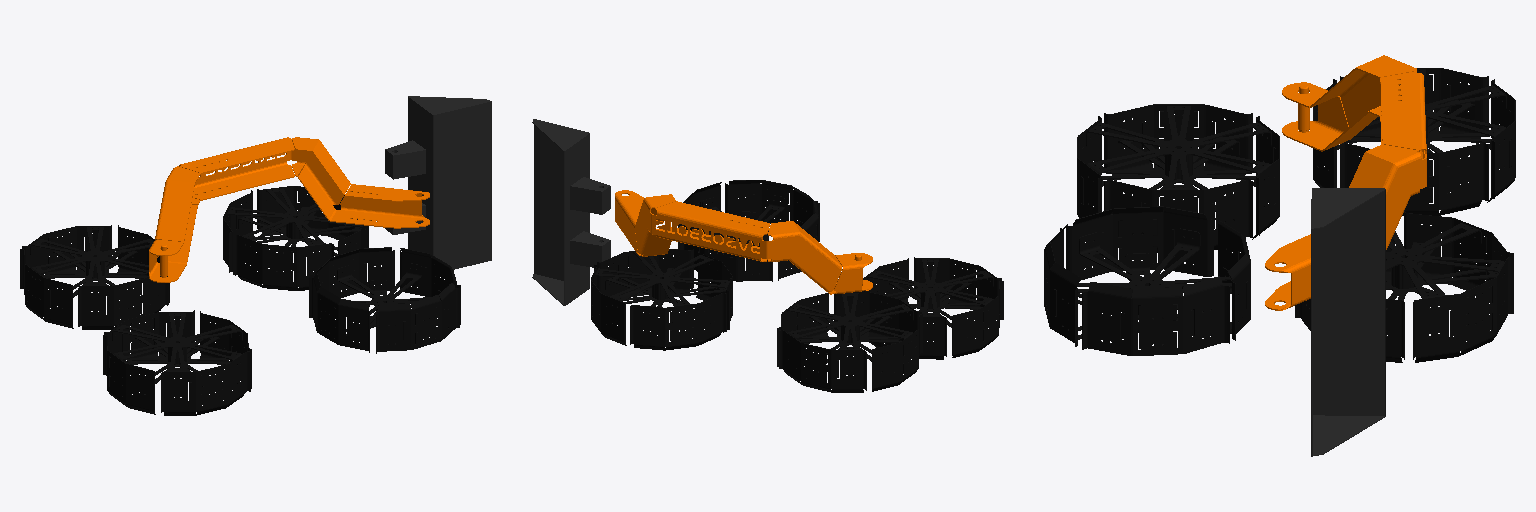
robot.urdf — my_robot:
<?xml version="1.0"?>
<robot name="my_robot" xmlns:xacro="http://www.ros.org/wiki/xacro">

  <link name="base_link">
  <inertial>
    <origin xyz="0 0 0" rpy="0 0 0"/>
    <mass value="6.66092"/>
    <inertia ixx="0.0559661" ixy="0" ixz="0" iyy="0.0621717" iyz="0" izz="0.104809"/>
  </inertial>
</link>

<link name="base_visual">
  <visual>
    <origin xyz="0 0 0" rpy="-1.5708 0 0"/>
    <geometry>
      <mesh filename="base_link.STL" scale="1 1 1"/>
    </geometry>
    <material name="grey">
      <color rgba="0.5 0.5 0.5 1.0"/>
    </material>
  </visual>
  <collision>
    <origin xyz="0 0 0" rpy="-1.5708 0 0"/>
    <geometry>
      <mesh filename="base_link.STL" scale="1 1 1"/>
    </geometry>
  </collision>
</link>

<joint name="base_visual_joint" type="fixed">
  <parent link="base_link"/>
  <child link="base_visual"/>
  <origin xyz="0 0 0" rpy="0 0 0"/>
</joint>

  <link name="Arm">
    <inertial>
      <origin xyz="0 0 0" rpy="0 0 0"/>
      <mass value="0.949651"/>
      <inertia ixx="0.00497965" ixy="0" ixz="0" iyy="0.0120414" iyz="0" izz="0.0123301"/>
    </inertial>
    <visual>
      <origin xyz="0 0 0" rpy="0 0 0"/>
      <geometry>
        <mesh filename="Arm.STL" scale="1 1 1"/>
      </geometry>
      <material name="orange"><color rgba="1.0 0.5 0.0 1.0"/></material>
    </visual>
    <collision>
      <origin xyz="0 0 0" rpy="0 0 0"/>
      <geometry>
        <mesh filename="Arm.STL" scale="1 1 1"/>
      </geometry>
    </collision>
  </link>

  <joint name="Arm_Joint" type="revolute">
    <parent link="base_link"/>
    <child link="Arm"/>
    <origin xyz="0.28468 -0.22263 0.30621" rpy="0 0 0"/>
    <axis xyz="0 0 -1"/>
    <limit lower="-0.7" upper="0.3" effort="120" velocity="1.5"/>
    <dynamics damping="2.0" friction="0.2"/>
  </joint>

  <link name="Bucket">
    <inertial>
      <origin xyz="0 0 0" rpy="0 0 0"/>
      <mass value="1.36392"/>
      <inertia ixx="0.0214664" ixy="0" ixz="0" iyy="0.0251992" iyz="0" izz="0.00731207"/>
    </inertial>
    <visual>
      <origin xyz="0 0 0" rpy="0 0 0"/>
      <geometry>
        <mesh filename="Bucket.STL" scale="1 1 1"/>
      </geometry>
      <material name="dark_grey"><color rgba="0.2 0.2 0.2 1.0"/></material>
    </visual>
    <collision>
      <origin xyz="0 0 0" rpy="0 0 0"/>
      <geometry>
        <box size="0.40 0.30 0.18"/>
      </geometry>
    </collision>
  </link>

  <joint name="Bucket_Joint" type="revolute">
    <parent link="Arm"/>
    <child link="Bucket"/>
    <origin xyz="0.80651 0.070738 -0.072110" rpy="0 0 0"/>
    <axis xyz="0 0 1"/>
    <limit lower="-1.25" upper="0.45" effort="80" velocity="2.0"/>
    <dynamics damping="1.5" friction="0.15"/>
  </joint>

<link name="FL_Wheel">
    <inertial>
      <mass value="1.5"/>
      <inertia ixx="0.01" ixy="0" ixz="0" iyy="0.01" iyz="0" izz="0.02"/>
    </inertial>
    <visual>
      <geometry>
        <mesh filename="FL_Wheel.STL" scale="1 1 1"/>
      </geometry>
      <material name="black"><color rgba="0.1 0.1 0.1 1.0"/></material>
    </visual>
    <collision>
      <geometry>
        <cylinder radius="0.210439" length="0.1"/>
      </geometry>
    </collision>
  </link>

  <joint name="FL_Wheel_Joint" type="continuous">
    <parent link="base_link"/>
    <child link="FL_Wheel"/>
    <origin xyz="0.8411 -0.019814 0.235883" rpy="0 0 0"/>
    <axis xyz="0 1 0"/>
    <limit effort="2000" velocity="20"/>
    <dynamics damping="1.0" friction="1.0"/>
  </joint>

  <link name="FR_Wheel">
    <inertial>
      <mass value="1.5"/>
      <inertia ixx="0.01" ixy="0" ixz="0" iyy="0.01" iyz="0" izz="0.02"/>
    </inertial>
    <visual>
      <geometry>
        <mesh filename="FR_Wheel.STL" scale="1 1 1"/>
      </geometry>
      <material name="black"/>
    </visual>
    <collision>
      <geometry>
        <cylinder radius="0.210439" length="0.1"/>
      </geometry>
    </collision>
  </link>

  <joint name="FR_Wheel_Joint" type="continuous">
    <parent link="base_link"/>
    <child link="FR_Wheel"/>
    <origin xyz="0.8411 -0.538167 0.235883" rpy="0 0 0"/>
    <axis xyz="0 1 0"/>
    <limit effort="2000" velocity="20"/>
    <dynamics damping="1.0" friction="1.0"/>
  </joint>

  <link name="BL_Wheel">
    <inertial>
      <mass value="1.5"/>
      <inertia ixx="0.01" ixy="0" ixz="0" iyy="0.01" iyz="0" izz="0.02"/>
    </inertial>
    <visual>
      <geometry>
        <mesh filename="BL_Wheel.STL" scale="1 1 1"/>
      </geometry>
      <material name="black"/>
    </visual>
    <collision>
      <geometry>
        <cylinder radius="0.210439" length="0.1"/>
      </geometry>
    </collision>
  </link>

  <joint name="BL_Wheel_Joint" type="continuous">
    <parent link="base_link"/>
    <child link="BL_Wheel"/>
    <origin xyz="0.18387 0 0.23588" rpy="0 0 0"/>
    <axis xyz="0 1 0"/>
    <limit effort="2000" velocity="20"/>
    <dynamics damping="1.0" friction="1.0"/>
  </joint>

  <link name="BR_Wheel">
    <inertial>
      <mass value="1.5"/>
      <inertia ixx="0.01" ixy="0" ixz="0" iyy="0.01" iyz="0" izz="0.02"/>
    </inertial>
    <visual>
      <origin xyz="0 0 0" rpy="0 0 0"/>
      <geometry>
        <mesh filename="BR_Wheel.STL" scale="1 1 1"/>
      </geometry>
      <material name="black"/>
    </visual>
    <collision>
      <geometry>
        <cylinder radius="0.210439" length="0.1"/>
      </geometry>
    </collision>
  </link>

  <joint name="BR_Wheel_Joint" type="continuous">
    <parent link="base_link"/>
    <child link="BR_Wheel"/>
    <origin xyz="0.183875 -0.475667 0.235883" rpy="0 0 -3.14159"/>
    <axis xyz="0 -1 0"/>
    <limit effort="2000" velocity="20"/>
    <dynamics damping="1.0" friction="1.0"/>
  </joint>

  <link name="zed2i_base_link">
    <inertial>
      <mass value="0.166"/>
      <inertia ixx="0.0001" ixy="0" ixz="0" iyy="0.0001" iyz="0" izz="0.0001"/>
    </inertial>
  </link>

  <link name="zed2i_visual">
    <visual>
      <origin xyz="0 0 0" rpy="0 0 0"/>
      <geometry>
        <mesh filename="../../resources/meshes/ZED2i.STL" scale="0.001 0.001 0.001"/>
      </geometry>
      <material name="zed_grey">
        <color rgba="0.4 0.4 0.4 1.0"/>
      </material>
    </visual>
  </link>

  <joint name="base_to_zed2i" type="fixed">
    <parent link="base_link"/>
    <child link="zed2i_base_link"/>
    <origin xyz="0.762639 -0.100614 0.526280" rpy="0 0 0"/>
  </joint>

  <joint name="zed2i_visual_joint" type="fixed">
    <parent link="zed2i_base_link"/>
    <child link="zed2i_visual"/>
    <origin xyz="0 0 0" rpy="-1.36136 0 1.5708"/>
  </joint>

  <link name="d455i_base_link"/>
  <joint name="base_to_d455i" type="fixed">
    <parent link="base_link"/>
    <child link="d455i_base_link"/>
    <origin xyz="0.85 -0.55 0.5" rpy="0 0.35 0"/>
  </joint>

  <link name="lidar_link"/>
  <joint name="d455i_to_lidar" type="fixed">
    <parent link="d455i_base_link"/>
    <child link="lidar_link"/>
    <origin xyz="0 0 0.2" rpy="0 0 0"/>
  </joint>

  <link name="zed2i_left_optical_frame"/>
  <joint name="zed2i_left_optical_joint" type="fixed">
    <parent link="zed2i_base_link"/>
    <child link="zed2i_left_optical_frame"/>
    <origin xyz="0 -0.06 0" rpy="-1.5708 0 -1.5708"/>
  </joint>

  <link name="zed2i_right_optical_frame"/>
  <joint name="zed2i_right_optical_joint" type="fixed">
    <parent link="zed2i_base_link"/>
    <child link="zed2i_right_optical_frame"/>
    <origin xyz="0 0.06 0" rpy="-1.5708 0 -1.5708"/>
  </joint>

  <ros2_control name="GazeboSystem" type="system">
    <hardware>
      <plugin>gazebo_ros2_control/GazeboSystem</plugin>
    </hardware>

    <!-- Drive wheels — velocity command, position+velocity state -->
    <joint name="FL_Wheel_Joint">
      <command_interface name="velocity"/>
      <state_interface name="position"/>
      <state_interface name="velocity"/>
    </joint>
    <joint name="FR_Wheel_Joint">
      <command_interface name="velocity"/>
      <state_interface name="position"/>
      <state_interface name="velocity"/>
    </joint>
    <joint name="BL_Wheel_Joint">
      <command_interface name="velocity"/>
      <state_interface name="position"/>
      <state_interface name="velocity"/>
    </joint>
    <joint name="BR_Wheel_Joint">
      <command_interface name="velocity"/>
      <state_interface name="position"/>
      <state_interface name="velocity"/>
    </joint>

    <!-- Arm — position command -->
    <joint name="Arm_Joint">
      <command_interface name="position"/>
      <state_interface name="position"/>
      <state_interface name="velocity"/>
    </joint>

    <!-- Bucket — position command -->
    <joint name="Bucket_Joint">
      <command_interface name="position"/>
      <state_interface name="position"/>
      <state_interface name="velocity"/>
    </joint>
  </ros2_control>

  <gazebo>
    <plugin filename="libgazebo_ros2_control.so" name="gazebo_ros2_control">
      <parameters>REPLACE_WITH_CONTROLLER_YAML</parameters>
    </plugin>
    <plugin name="p3d_base_controller" filename="libgazebo_ros_p3d.so">
      <body_name>base_link</body_name>
      <frame_name>world</frame_name>
    </plugin>
  </gazebo>

</robot>

--- What the picture shows (computed from the rendered views, not written in the file) ---
The picture shows the robot from 3 angles, left to right: view 1: azimuth 30°, elevation 25°; view 2: azimuth 150°, elevation 25°; view 3: azimuth 270°, elevation 25°; orthographic projection.
Robot: my_robot — 14 links, 13 joints (2 revolute, 4 continuous, 7 fixed); root link base_link; default pose: every joint at zero.
Visible links, largest first — view 1: Arm, Bucket, FR_Wheel, BR_Wheel, BL_Wheel, FL_Wheel; view 2: BL_Wheel, FL_Wheel, Arm, Bucket, BR_Wheel, FR_Wheel; view 3: FR_Wheel, BR_Wheel, Bucket, Arm, FL_Wheel, BL_Wheel.
Boxes of the visible links, x1=… form: Arm: x1=149, y1=137, x2=429, y2=282; Bucket: x1=385, y1=96, x2=491, y2=269; FR_Wheel: x1=309, y1=247, x2=460, y2=353; BR_Wheel: x1=103, y1=310, x2=251, y2=415; BL_Wheel: x1=20, y1=225, x2=169, y2=329; FL_Wheel: x1=223, y1=186, x2=368, y2=290; BL_Wheel: x1=777, y1=292, x2=922, y2=392; FL_Wheel: x1=591, y1=249, x2=732, y2=350; Arm: x1=615, y1=190, x2=872, y2=294; Bucket: x1=532, y1=119, x2=610, y2=305; BR_Wheel: x1=862, y1=257, x2=1003, y2=359; FR_Wheel: x1=678, y1=180, x2=819, y2=281; FR_Wheel: x1=1044, y1=206, x2=1250, y2=355; BR_Wheel: x1=1077, y1=104, x2=1279, y2=252; Bucket: x1=1311, y1=188, x2=1385, y2=456; Arm: x1=1265, y1=55, x2=1426, y2=310; FL_Wheel: x1=1295, y1=210, x2=1513, y2=362; BL_Wheel: x1=1313, y1=68, x2=1515, y2=215.
Size in the robot's own frame: 1.41 by 0.9518 by 0.5243 metres.
6 mesh visuals loaded from 8 distinct referenced files (6 binary STL); not drawn: 2 (reference not matched to a file when rendering).
